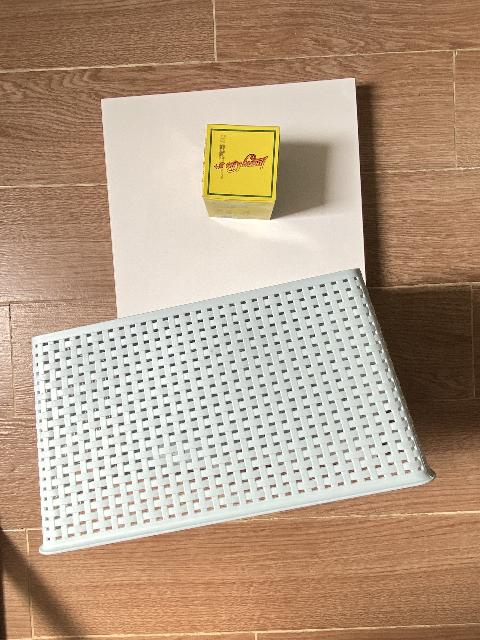cart: (30, 269, 436, 558)
luong_kho: (202, 124, 280, 220)
